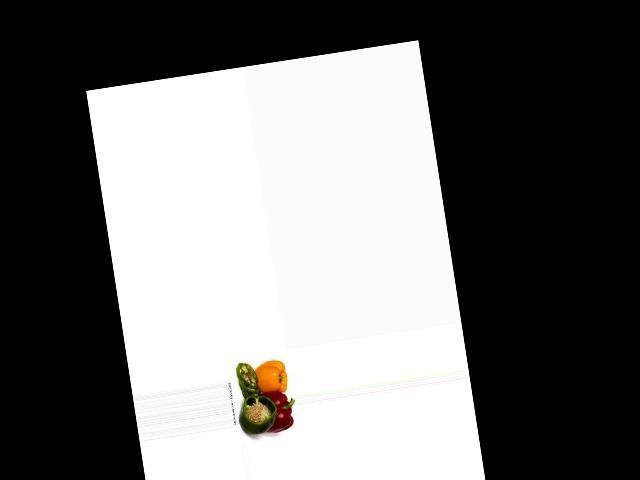bell_pepper: (238, 391, 281, 439)
